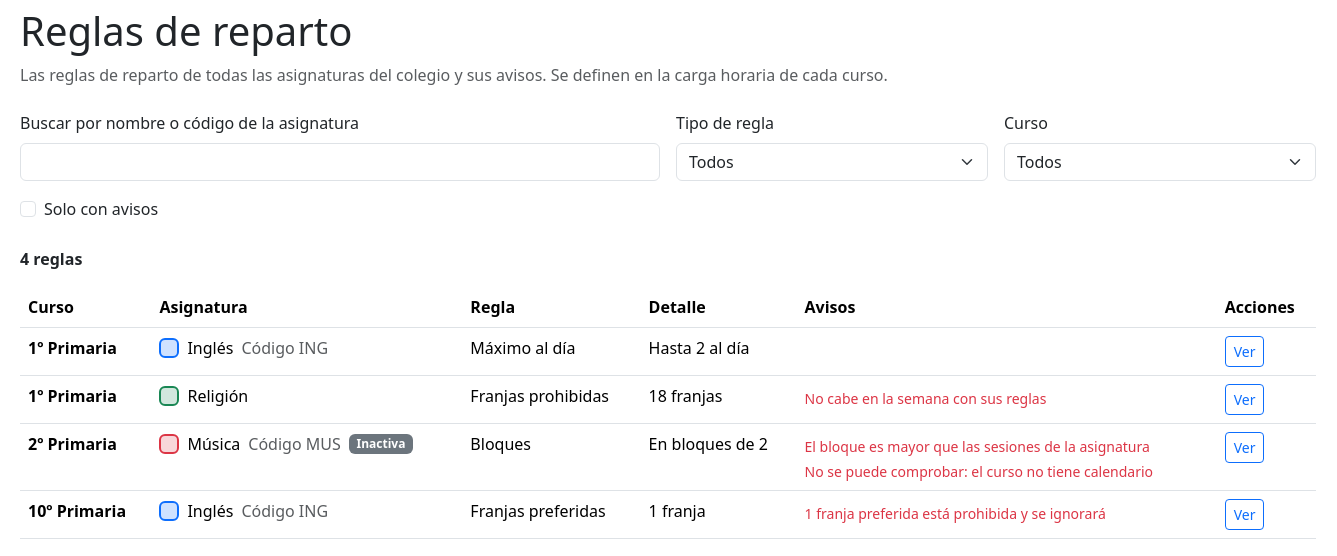
Scenario: ConstraintsPage › on a wide screen › filters › says that nothing matches and clears the filters, giving the focus to the search
The width and height of the screenshot is (1337, 556).
Select "Bloques" in the dropdown labelled "Tipo de regla". click: (832, 162)
box: [676,143,988,181]
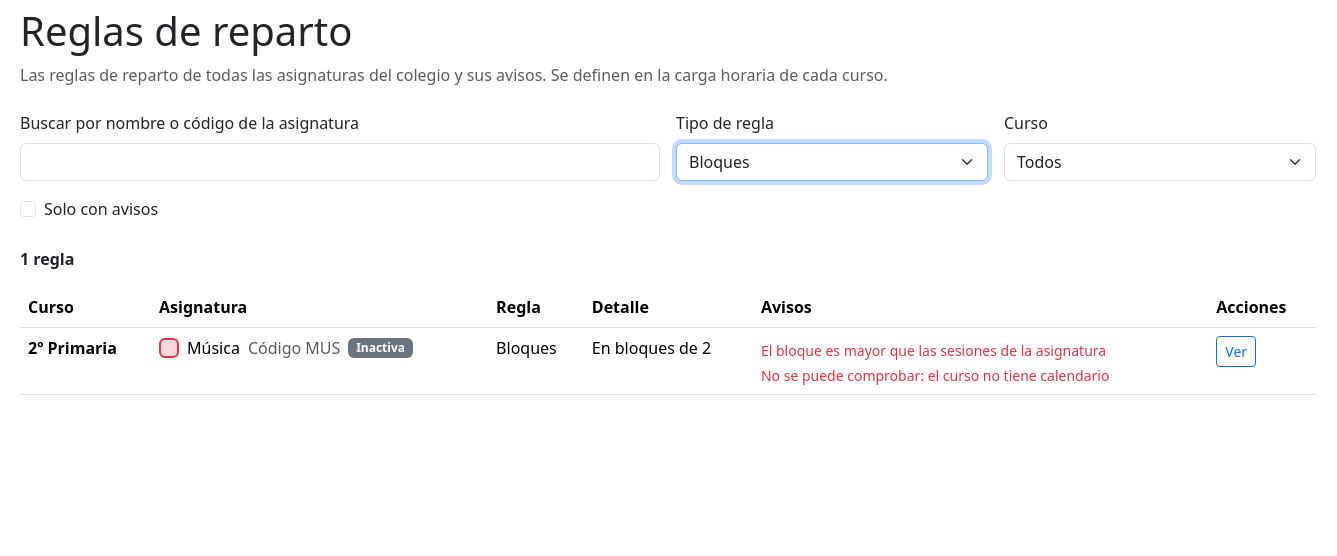
Select "1º Primaria" in the dropdown labelled "Curso". click: (1160, 162)
box: [1004,143,1316,181]
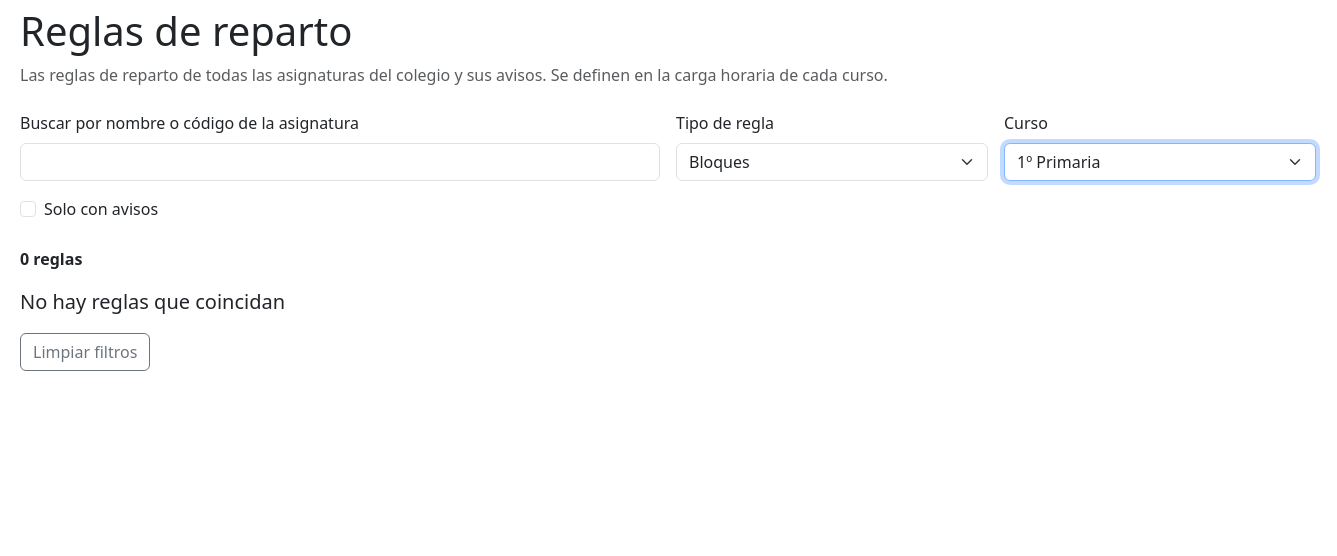
Check: the text "No hay reglas que coincidan" is shown, box [20,288,285,315]
Check: the table is gone
Check: the message with test id "constraints-count" reads "0 reglas", box [20,248,82,270]
Click the button "Limpiar filtros". click: click(85, 352)
box: [20,333,150,371]
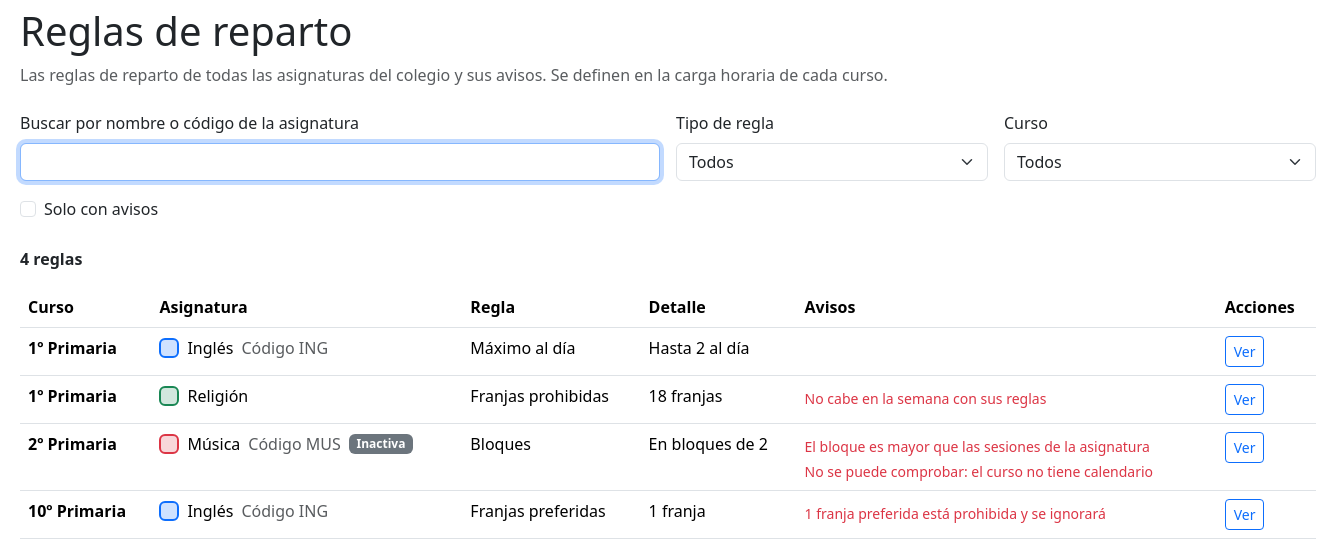
Check: the checkbox labelled "Solo con avisos" is not checked, box [20,201,36,217]
Check: the text "No hay reglas que coincidan" is gone
